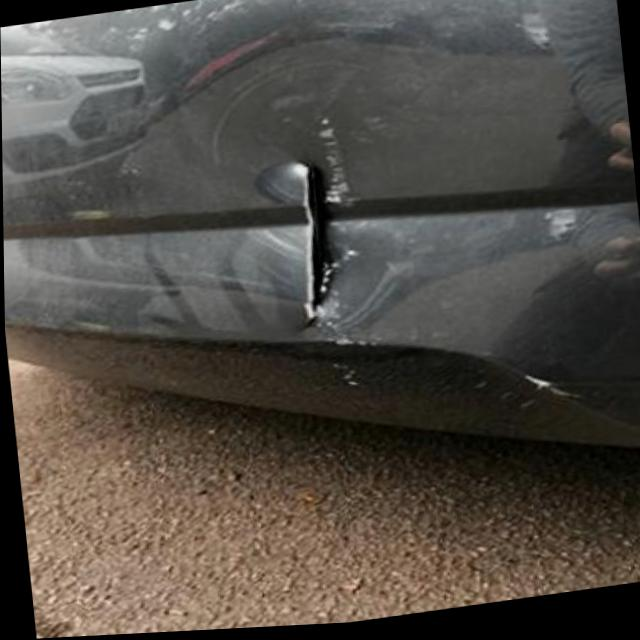Crack: (277, 149, 352, 347)
Dent: (101, 6, 619, 386)
